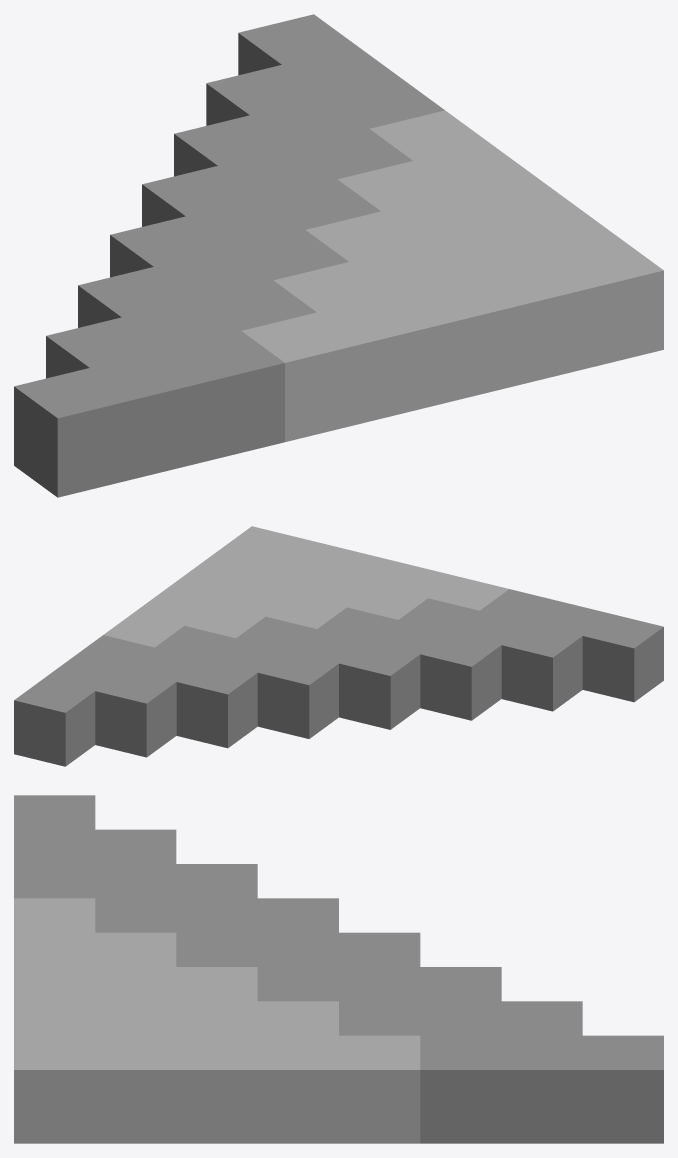
The model's file is path_gray_corner_medium.obj.
3 renders of one model, top to bottom at view 1: azimuth 30°, elevation 25°; view 2: azimuth 150°, elevation 25°; view 3: azimuth 270°, elevation 25°, orthographic. The views are drawn at different scales.
Bounding box in the file's own units: 0.8 × 0.1 × 0.8.
1 material, 1 textured.
